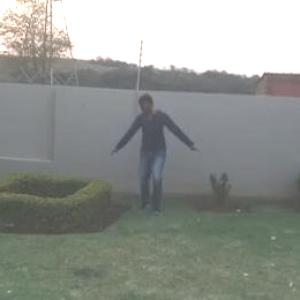land: (104, 85, 209, 231)
